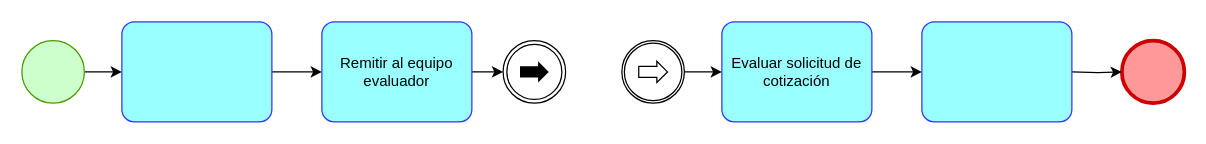
Some shapes in this 1206 by 144 pixel diagram are drawn without their labels. Each missing label, with the box of its shape:
Procesar solicitud: (921, 21, 1072, 122)
Realizar solicitud de cotización: (121, 21, 272, 122)
